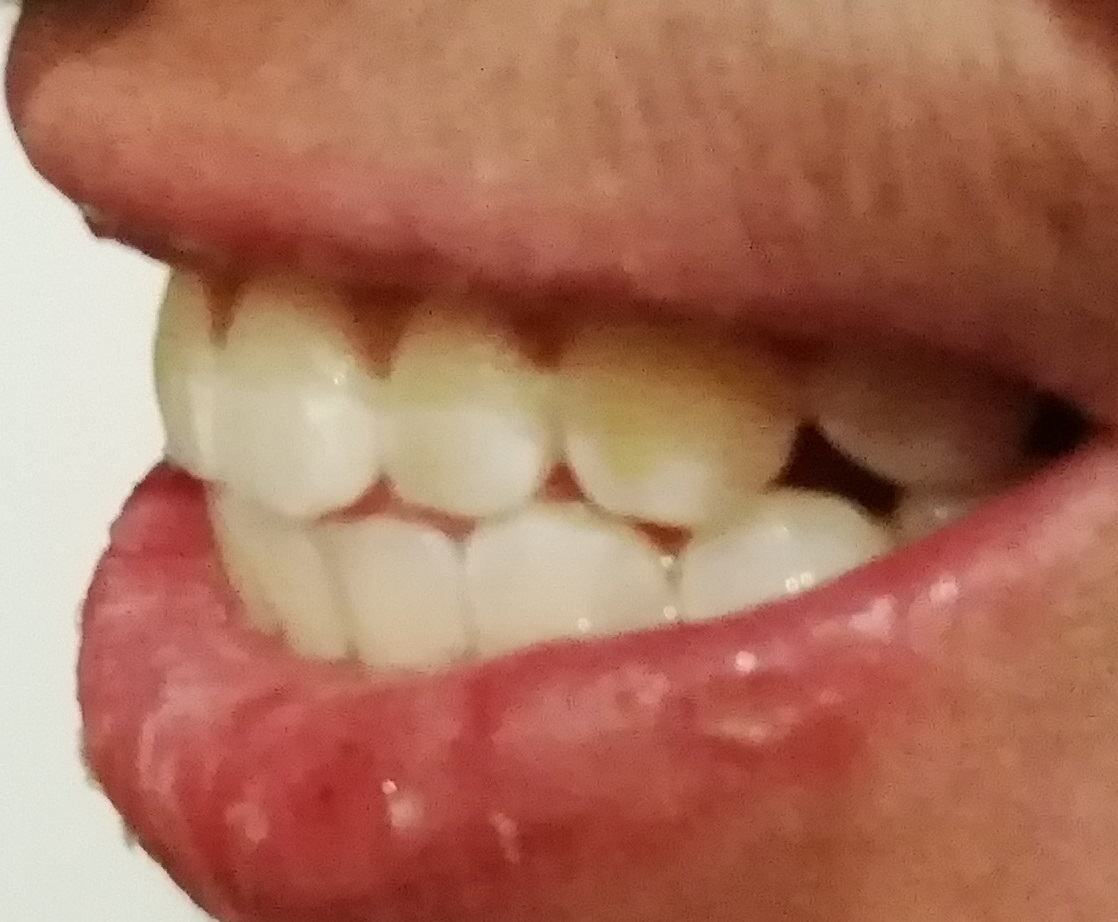boca: (153, 268, 973, 665)
